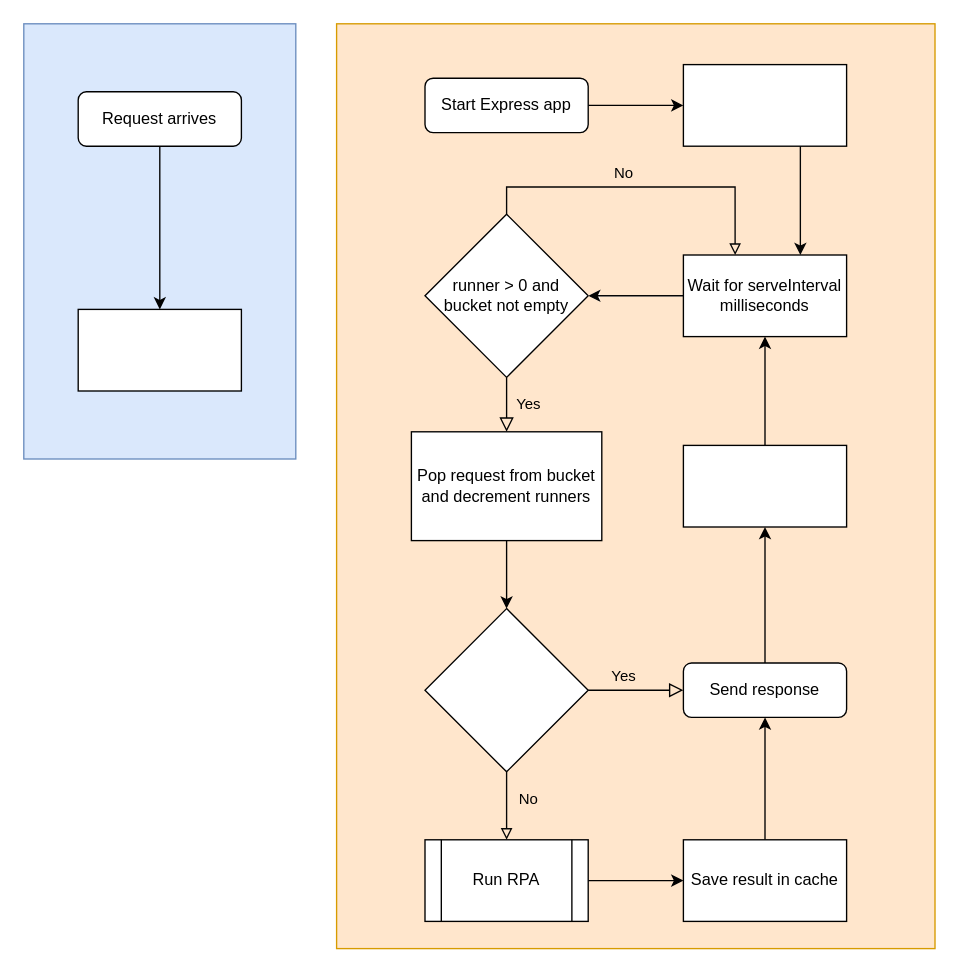
The diagram is 959 pixels wide and 972 high, and some of its shapes have lost their labels. Here are the shapes that lost their labels. From the top down, the box of each, then its label:
(682, 63, 847, 146): SetInterval
(77, 308, 241, 391): Request pushed into bucket
(682, 444, 847, 527): Increment runner
(424, 607, 588, 772): Cache has result
